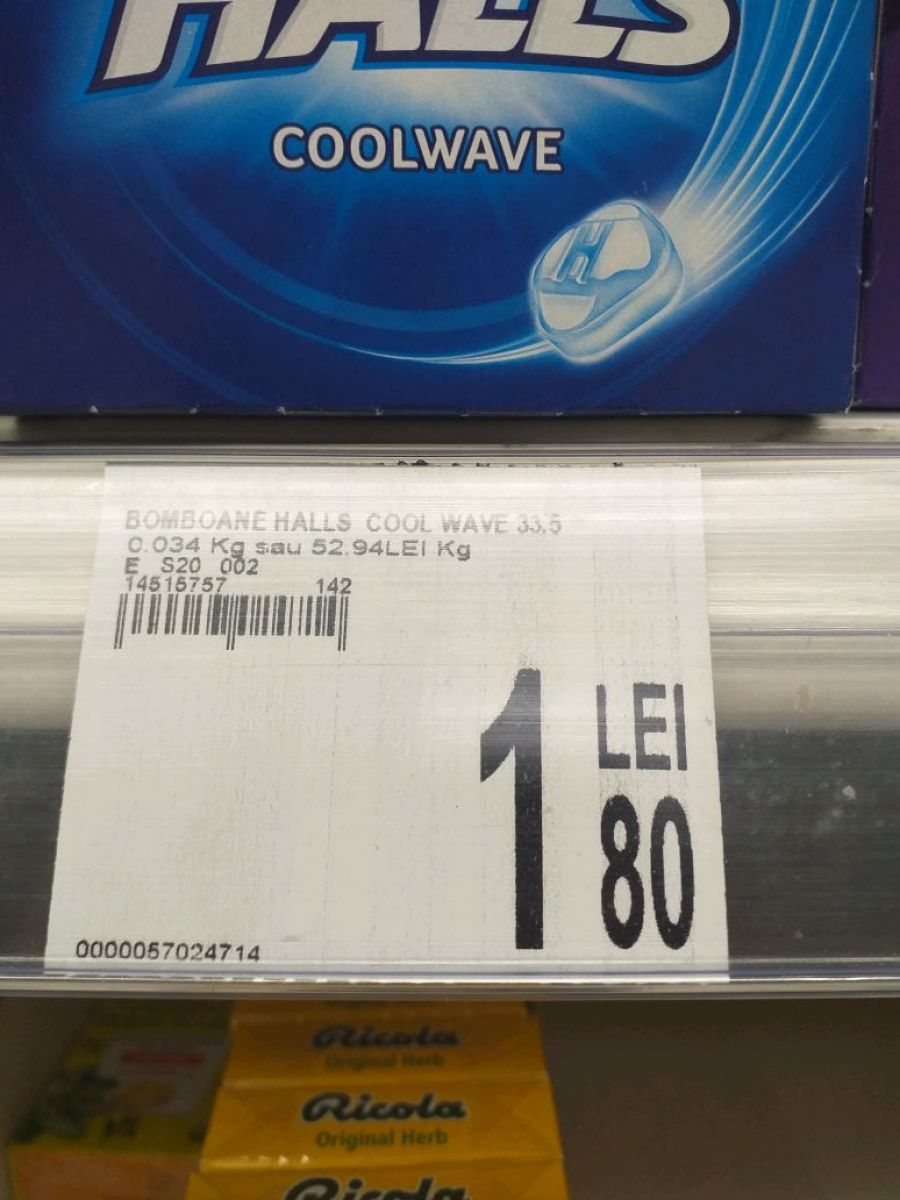price_bani: (586, 783, 709, 961)
price_lei: (462, 657, 563, 965)
price_tag: (23, 435, 762, 1011)
product_id: (63, 928, 274, 970)
product_name: (112, 493, 595, 537)
